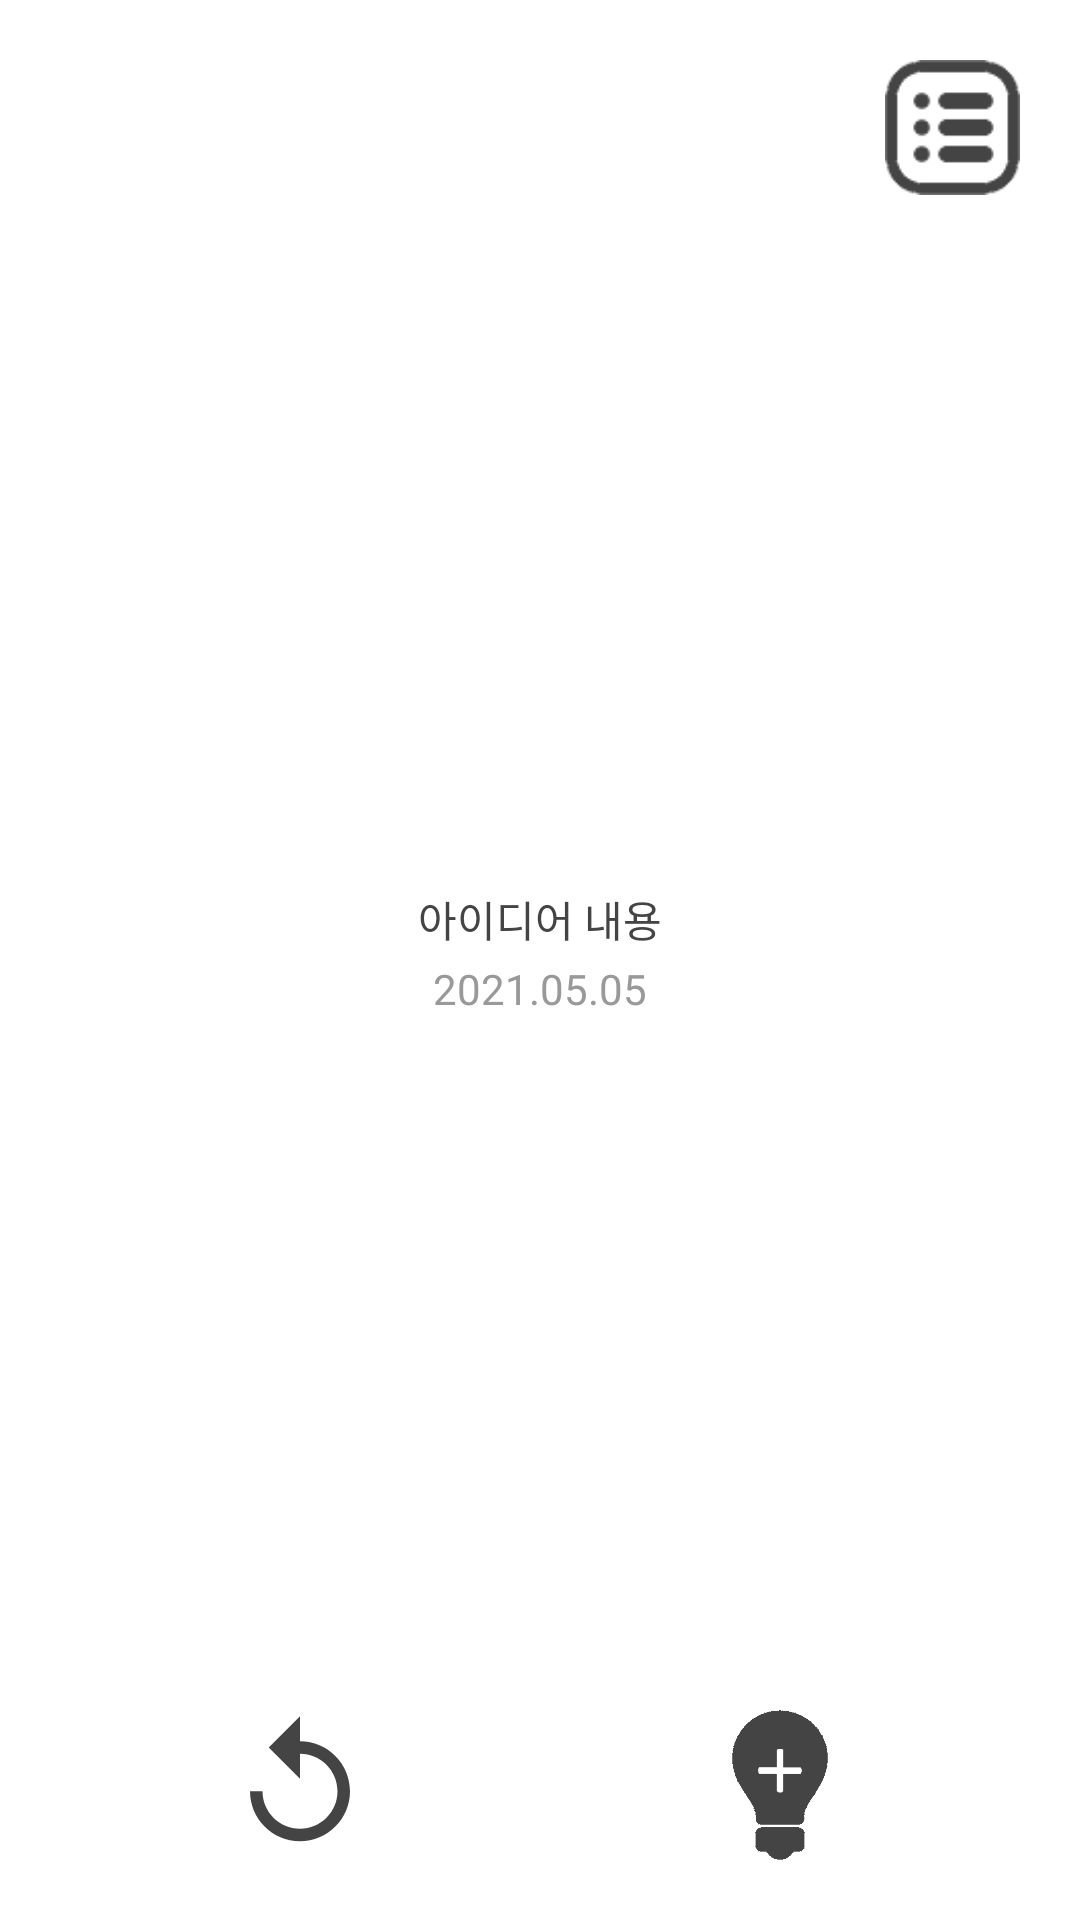

Where to tap for icons on this 1080 x 1920 app screen, as point (x, y):
insert: point (780, 1785)
replay: point (300, 1779)
